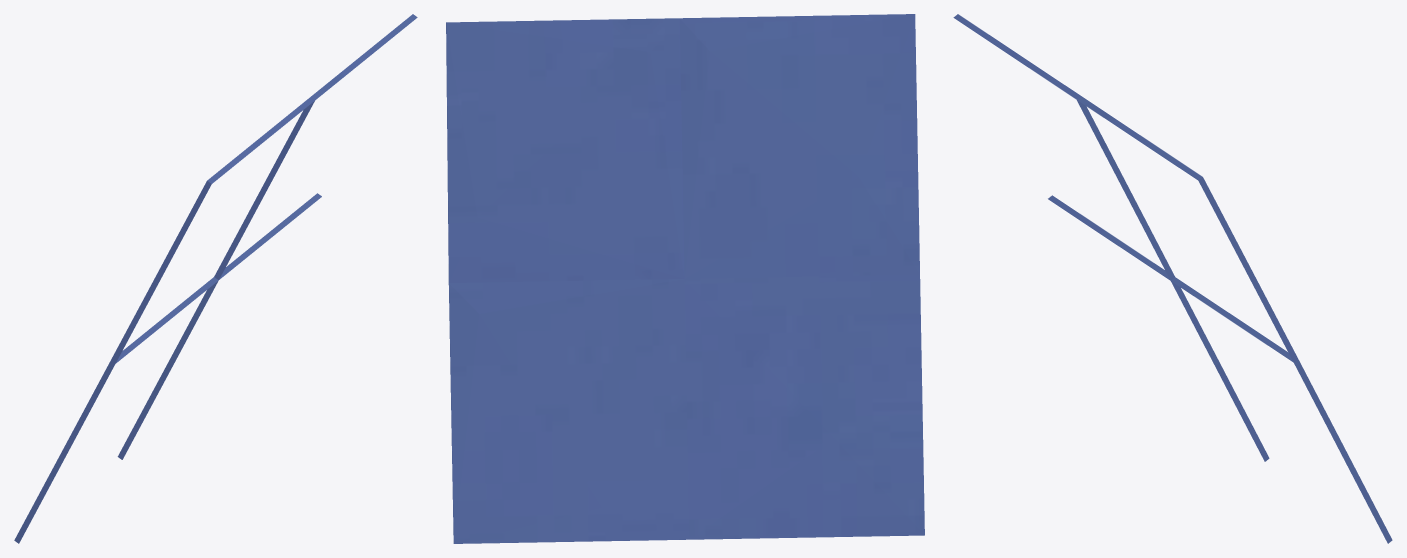
The picture shows the model from 3 angles, left to right: view 1: azimuth 30°, elevation 25°; view 2: azimuth 150°, elevation 25°; view 3: azimuth 270°, elevation 25°; orthographic projection. The views are drawn at different scales.
Bounding box in the file's own units: 19633 × 17712 × 16966.
1 material, 1 textured.
